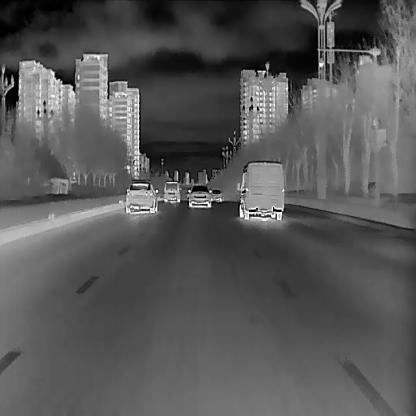car: (235, 160, 284, 220), (125, 180, 158, 214), (187, 185, 210, 209), (163, 181, 180, 202), (211, 188, 221, 202)
